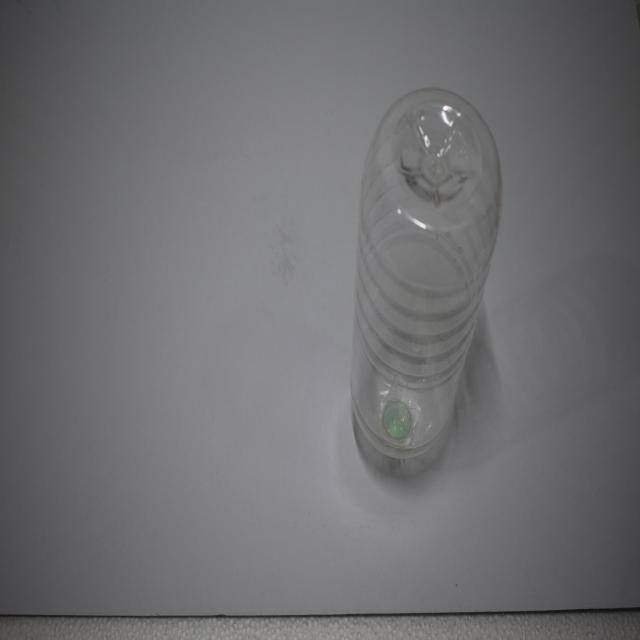bottle: (344, 82, 502, 466)
